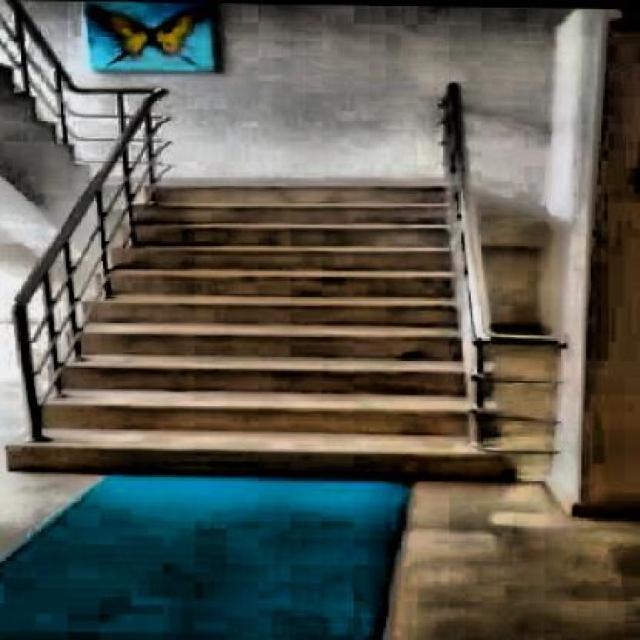stair: (1, 174, 526, 486)
